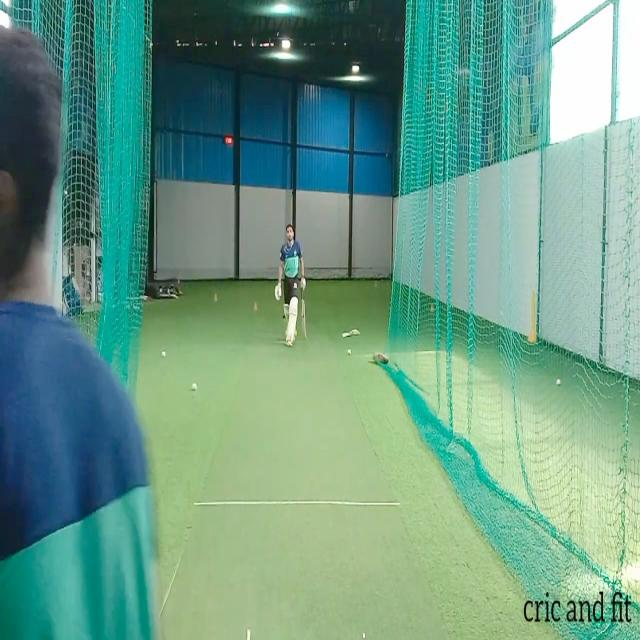batsman: (274, 222, 308, 349)
